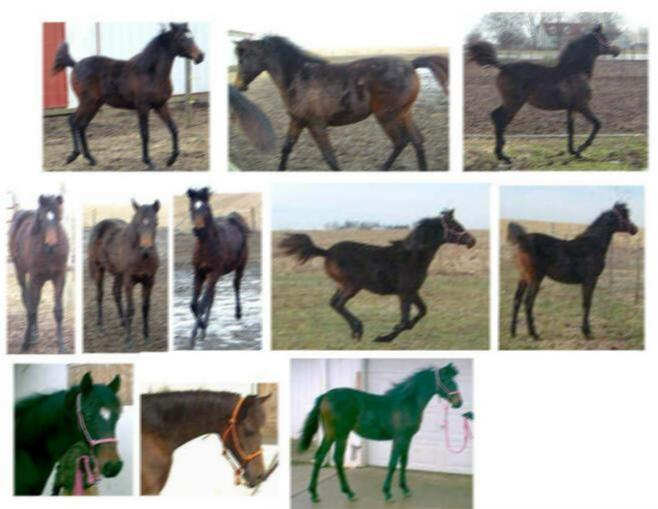horse: (229, 32, 448, 171), (274, 206, 476, 343), (296, 361, 462, 502), (462, 21, 620, 164), (504, 200, 638, 340), (138, 388, 272, 495), (12, 370, 122, 495), (86, 197, 160, 346), (184, 185, 250, 347), (7, 192, 70, 352)
